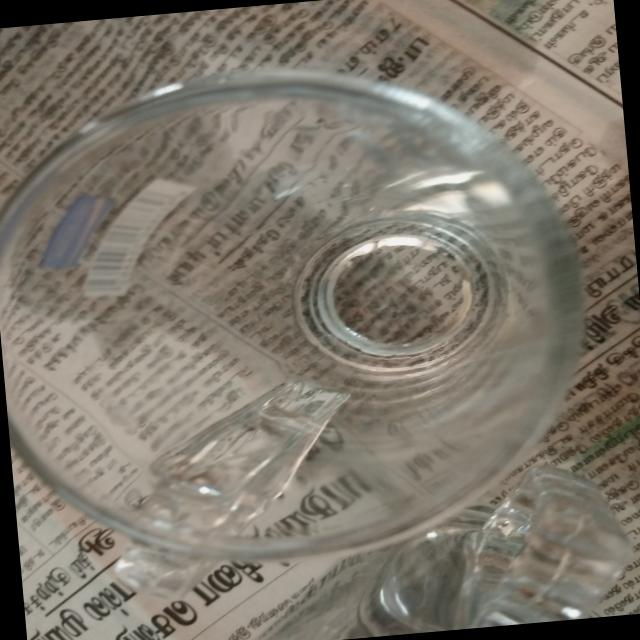glass-VX4N: (0, 46, 608, 609), (334, 452, 638, 639)
